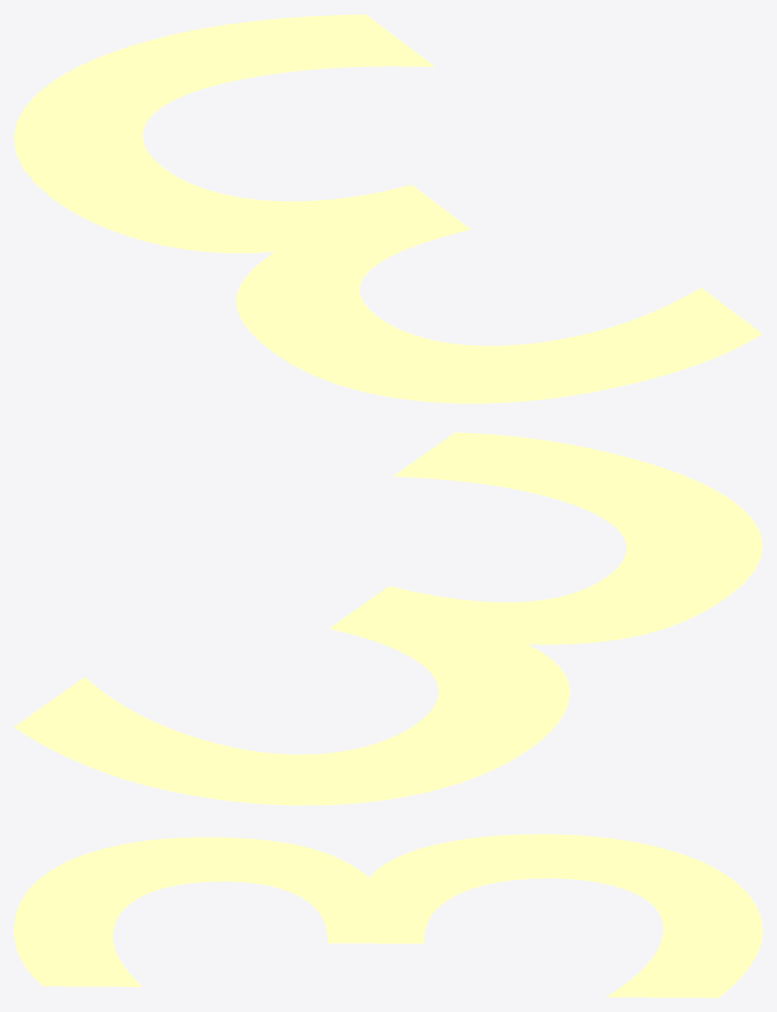
File: numb_3_yellow.glb
The picture shows the model from 3 angles, top to bottom: view 1: azimuth 30°, elevation 25°; view 2: azimuth 150°, elevation 25°; view 3: azimuth 270°, elevation 25°; orthographic projection. The views are drawn at different scales.
Parts seen in each view (by area): view 1: 3_numb_yellow; view 2: 3_numb_yellow; view 3: 3_numb_yellow.
Part boxes in pixels (bbox=[...]): 3_numb_yellow: bbox=[14, 14, 762, 403]; 3_numb_yellow: bbox=[14, 432, 762, 805]; 3_numb_yellow: bbox=[14, 834, 762, 997].
Bounding box in the file's own units: 1.16 × 3.78e-07 × 2.24.
